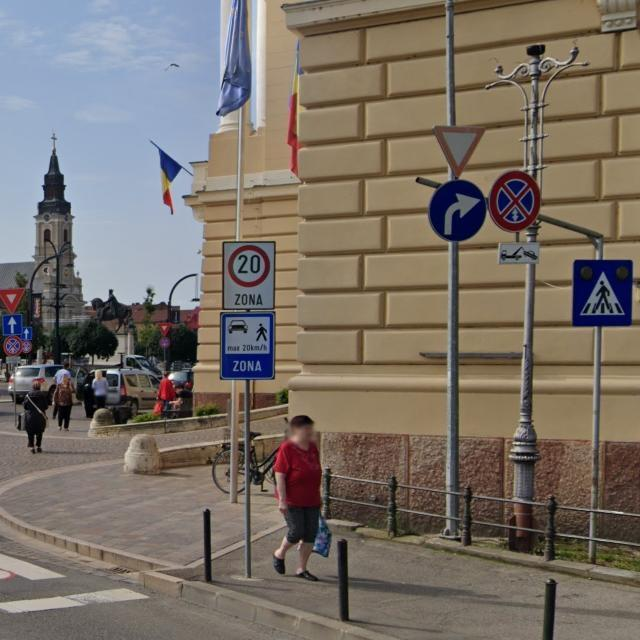forb_speed_over_20: (227, 244, 271, 287)
forb_waiting: (490, 171, 541, 232), (4, 336, 21, 356), (22, 341, 34, 354)
info_crosswalk: (572, 259, 634, 327)
prio_give_way: (432, 124, 485, 180), (0, 288, 26, 314), (157, 323, 173, 336)
